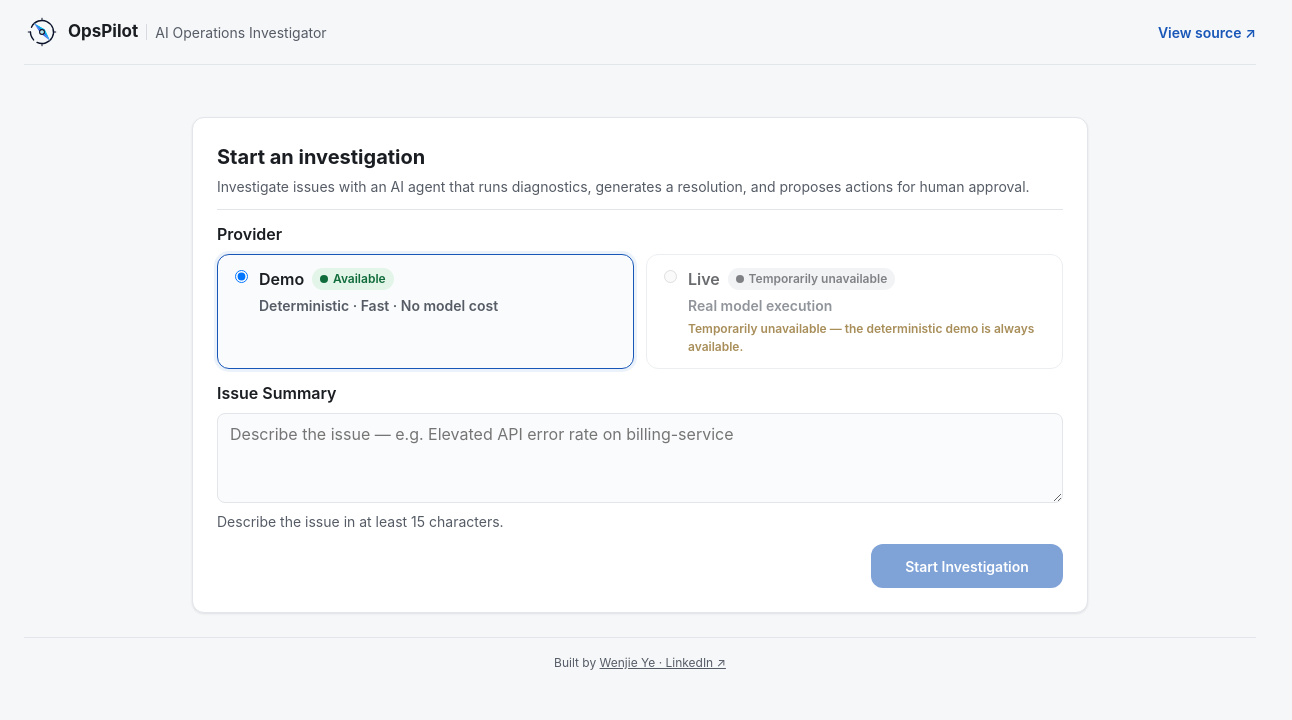
Test: Issue #41 polish — page-level terminal Start new investigation (§8 / §18.14-18.20) › FAILED run → bottom Start new investigation is shown (§18.14)
Type "Elevated error rate" into the text box labelled "Issue Summary" at (640, 458), box [217,413,1063,503]
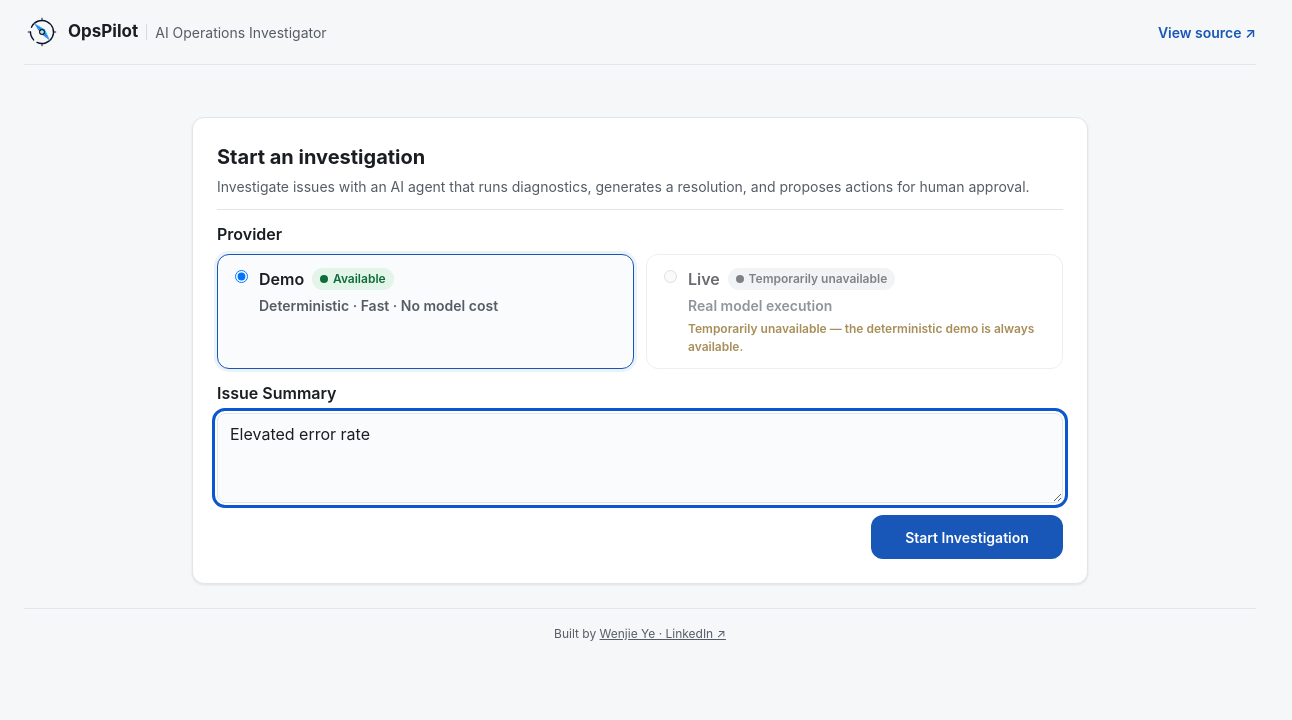
Click the button "Start Investigation" at (967, 537), box [871,515,1063,559]
(page scrolled)
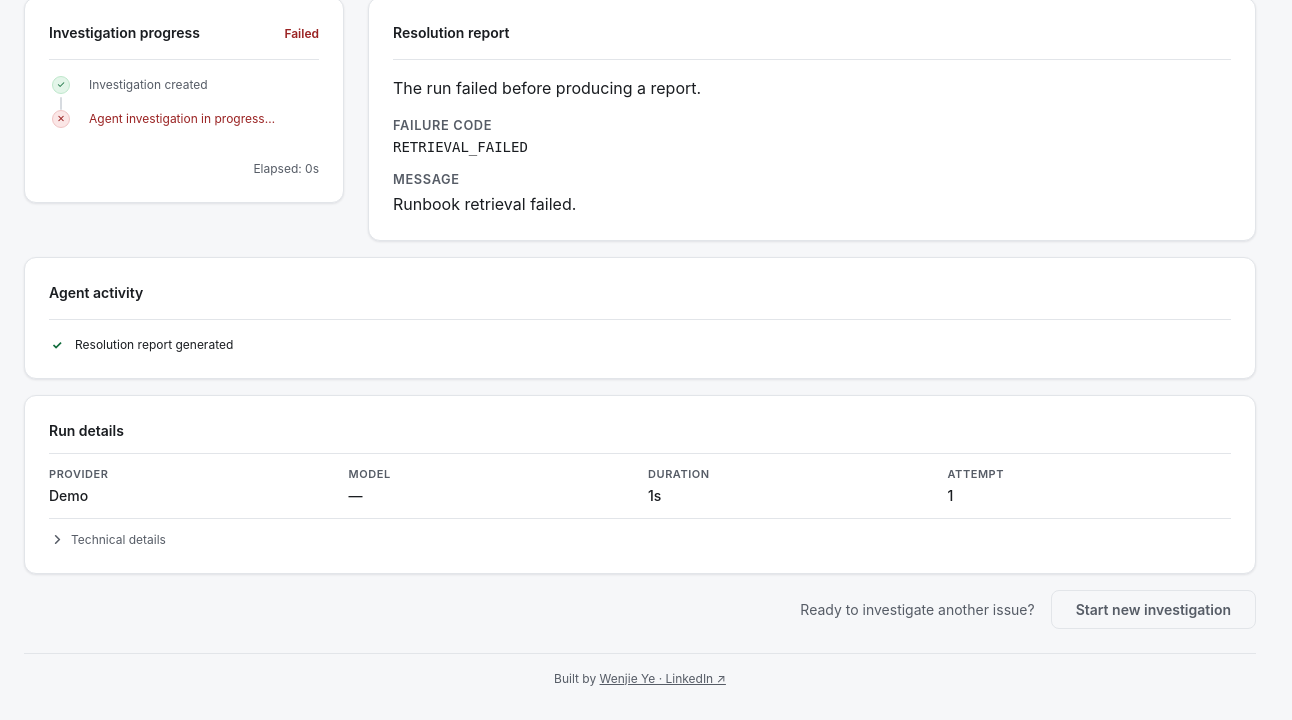
Expected: the button "Start new investigation" is shown, [1051,590,1256,628]
